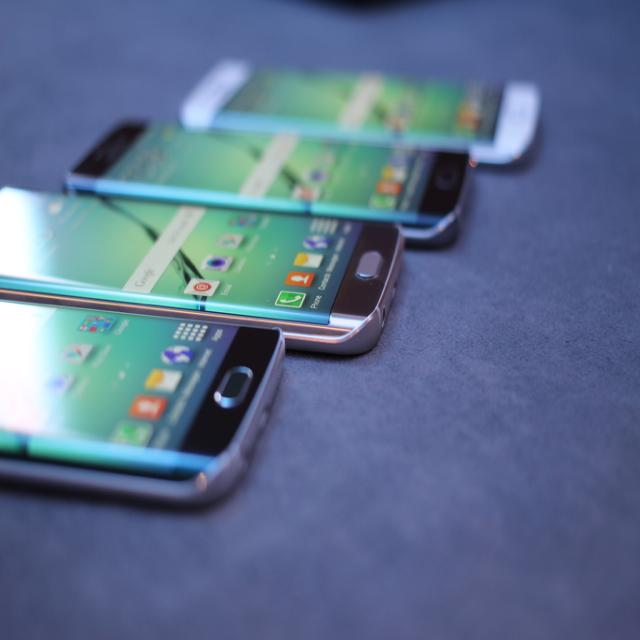Mobile-phone: (0, 180, 408, 355), (0, 298, 281, 508), (60, 114, 478, 246), (175, 54, 539, 164)
